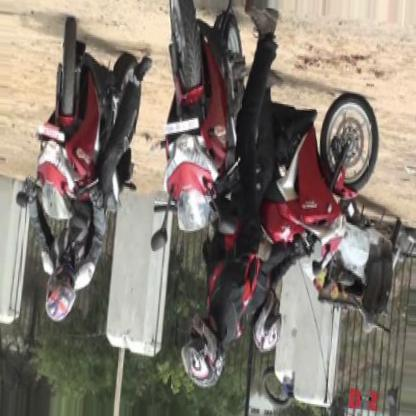with helmet: (180, 312, 225, 391), (46, 263, 82, 326), (253, 285, 284, 350)
